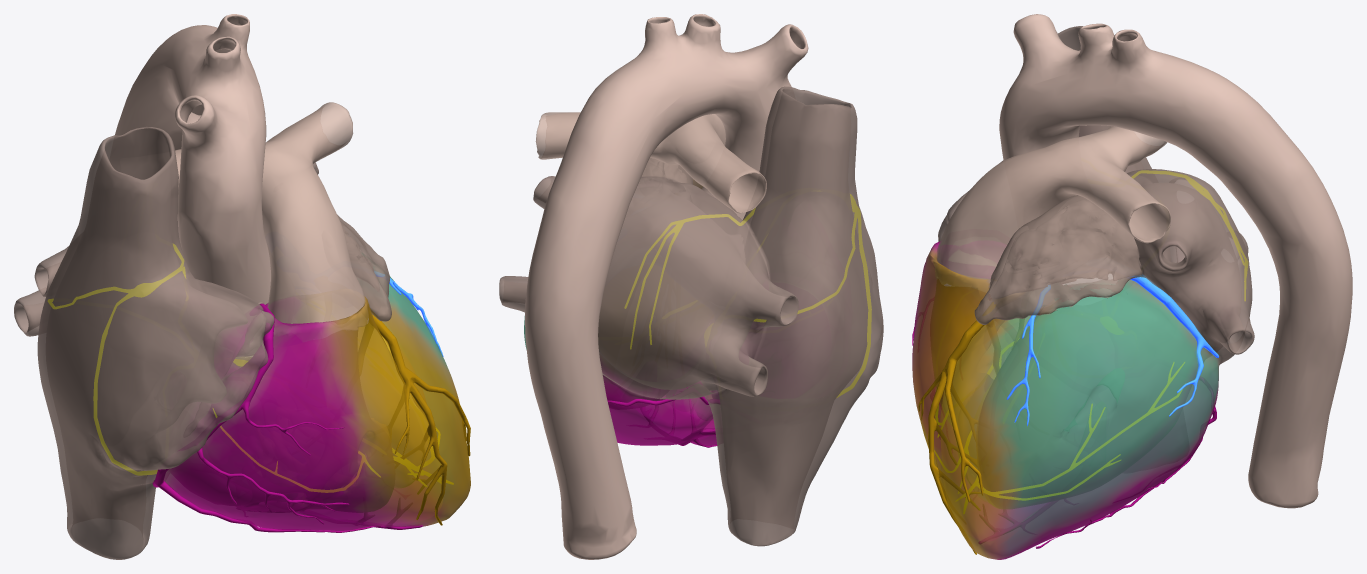
The model's file is coronary.glb.
3 views of the same model, side by side, from view 1: azimuth 30°, elevation 25°; view 2: azimuth 150°, elevation 25°; view 3: azimuth 270°, elevation 25° (orthographic). The views are drawn at different scales.
Parts seen in each view (by area): view 1: Heart_basis1, Aorta, Pulmonary_trunk, Arteries5, Arteries3, Conduction_; view 2: Heart_basis1, Aorta, Pulmonary_trunk, Conduction_, Arteries5; view 3: Heart_basis1, Aorta, Pulmonary_trunk, Arteries3, Conduction_, Arteries1, Arteries5.
Part boxes in pixels (box(x1,y1,x2,y2)): Heart_basis1: box(14, 126, 470, 559); Aorta: box(115, 14, 270, 356); Pulmonary_trunk: box(175, 102, 368, 341); Arteries5: box(152, 303, 422, 532); Arteries3: box(358, 309, 470, 525); Conduction_: box(48, 244, 453, 492); Heart_basis1: box(499, 86, 883, 546); Aorta: box(525, 14, 808, 559); Pulmonary_trunk: box(535, 112, 766, 213); Conduction_: box(625, 194, 871, 397); Arteries5: box(607, 387, 719, 447); Heart_basis1: box(912, 26, 1254, 559); Aorta: box(999, 14, 1352, 508); Pulmonary_trunk: box(933, 126, 1170, 293); Arteries3: box(918, 302, 1024, 554); Conduction_: box(934, 170, 1247, 513); Arteries1: box(1007, 274, 1218, 425); Arteries5: box(912, 306, 1216, 548).
Size of what is drawn, in the model's own units: 1.45 by 2 by 1.64.
